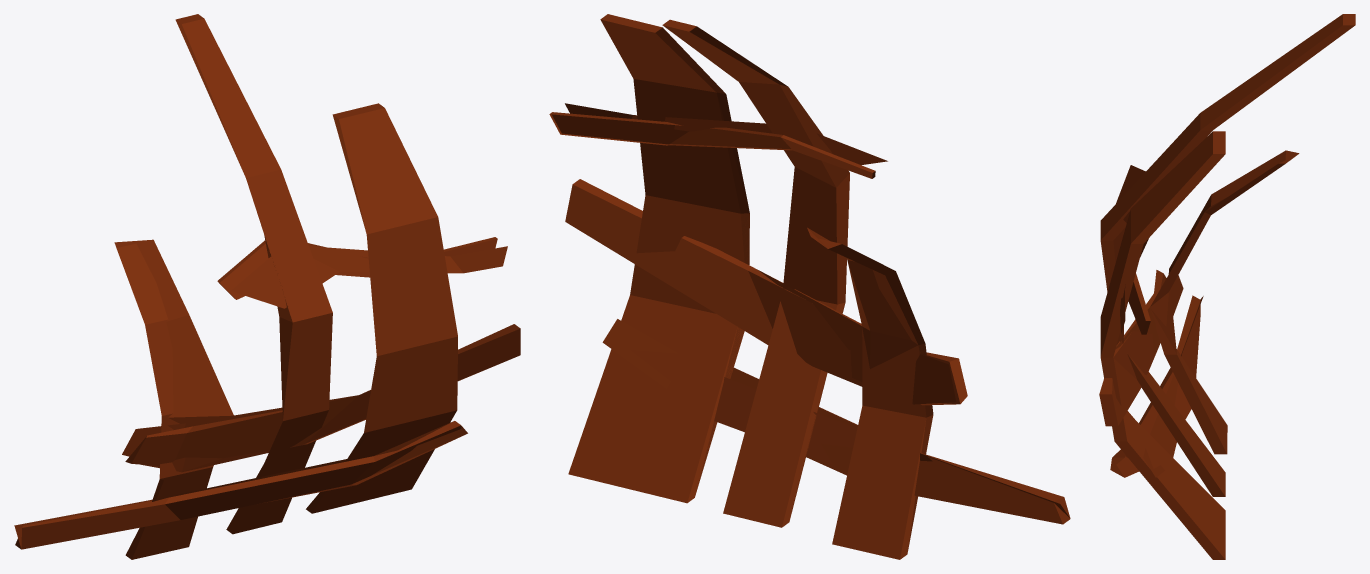
The model's file is Erba.fbx.
3 renders of one model, left to right at view 1: azimuth 30°, elevation 25°; view 2: azimuth 150°, elevation 25°; view 3: azimuth 270°, elevation 25°, orthographic. The views are drawn at different scales.
Visible parts, largest first — view 1: Erba, Erba.001; view 2: Erba.001, Erba; view 3: Erba.001, Erba.
Boxes of the visible parts, x1,y1,x2,y2 form: Erba: (14,19,520,559); Erba.001: (15,14,520,559); Erba.001: (549,14,1070,559); Erba: (565,89,1069,549); Erba.001: (1099,14,1355,559); Erba: (1100,14,1342,477).
Size of the model in its own units: 157 by 152 by 75.35.
